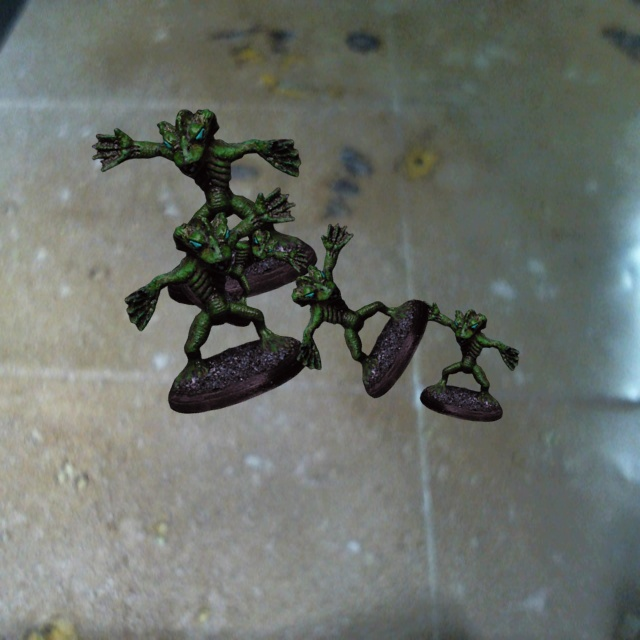pieza_juego: (92, 109, 317, 304), (124, 187, 308, 413), (291, 223, 428, 397), (415, 301, 519, 421), (181, 227, 307, 326)
